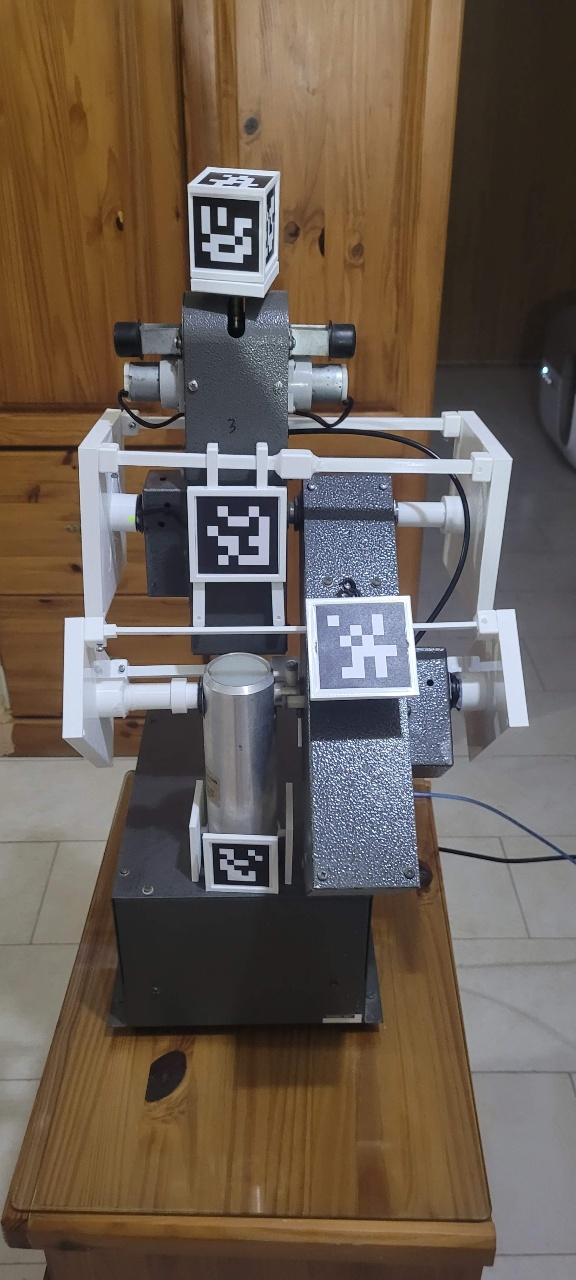Robot: (61, 163, 530, 896)
